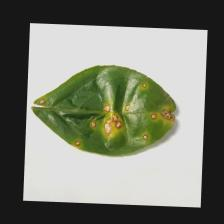canker: (52, 96, 178, 140)
